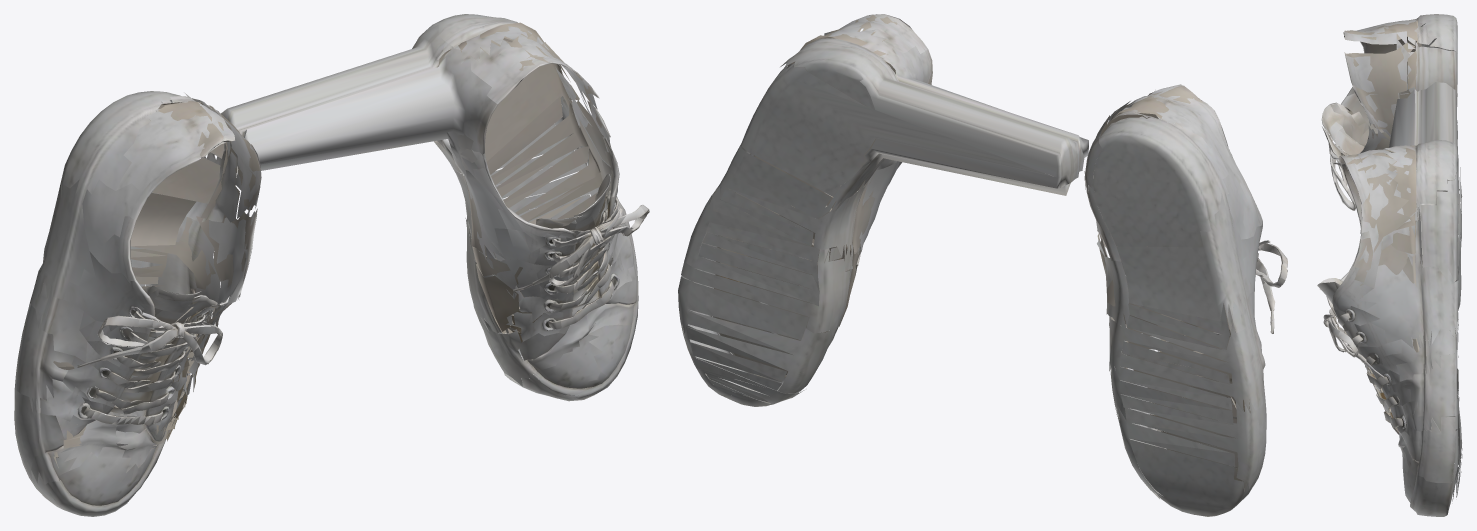
Rendered from adult-base-01.mobile.glb.
3 renders of one model, left to right at view 1: azimuth 30°, elevation 25°; view 2: azimuth 150°, elevation 25°; view 3: azimuth 270°, elevation 25°, orthographic. The views are drawn at different scales.
Parts seen in each view (by area): view 1: geometry_0; view 2: geometry_0; view 3: geometry_0.
Boxes of the visible parts, x1=… form: geometry_0: x1=14, y1=14, x2=649, y2=516; geometry_0: x1=678, y1=14, x2=1287, y2=516; geometry_0: x1=1317, y1=14, x2=1462, y2=516.
Size of the model in its own units: 0.00425 by 0.00265 by 0.00108.
Materials: 1 (1 with a texture image).
